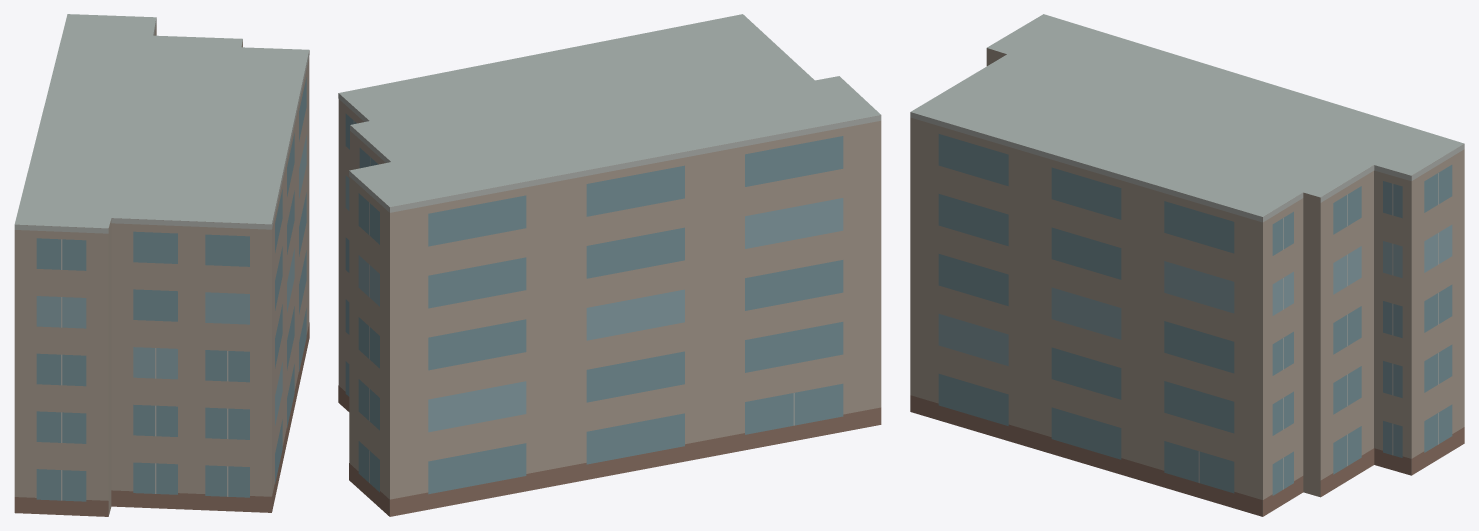
File: survey-upis-32891868.glb
3 renders of one model, left to right at view 1: azimuth 30°, elevation 25°; view 2: azimuth 150°, elevation 25°; view 3: azimuth 270°, elevation 25°, orthographic. The views are drawn at different scales.
Parts seen in each view (by area): view 1: survey-upis-32891868.tmp; view 2: survey-upis-32891868.tmp; view 3: survey-upis-32891868.tmp.
Boxes of the visible parts, bbox=[...] form: survey-upis-32891868.tmp: bbox=[14, 14, 309, 516]; survey-upis-32891868.tmp: bbox=[338, 14, 881, 516]; survey-upis-32891868.tmp: bbox=[910, 14, 1464, 516].
Bounding box in the file's own units: 19.32 × 13.3 × 22.29.
